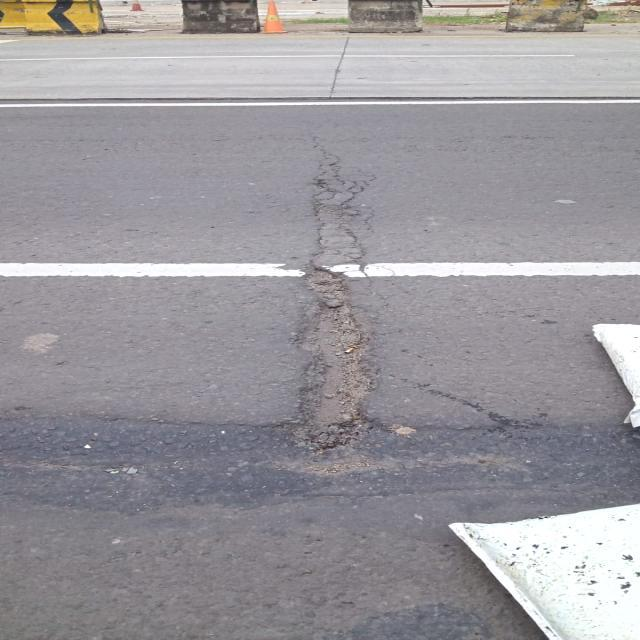Buraco: (273, 258, 379, 457)
